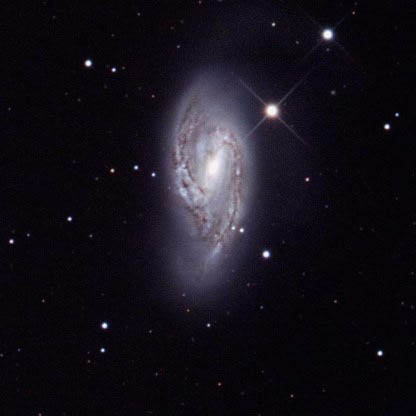Messier 66: (127, 52, 297, 315)
